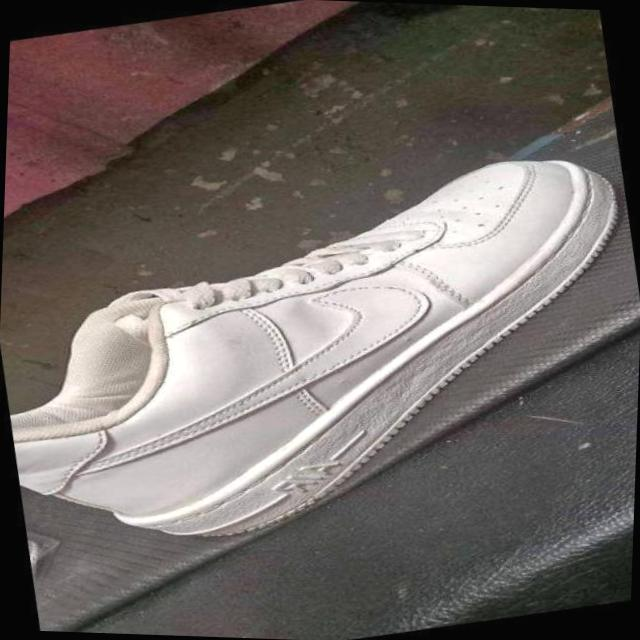nike_fake_airforce: (0, 122, 640, 608)
